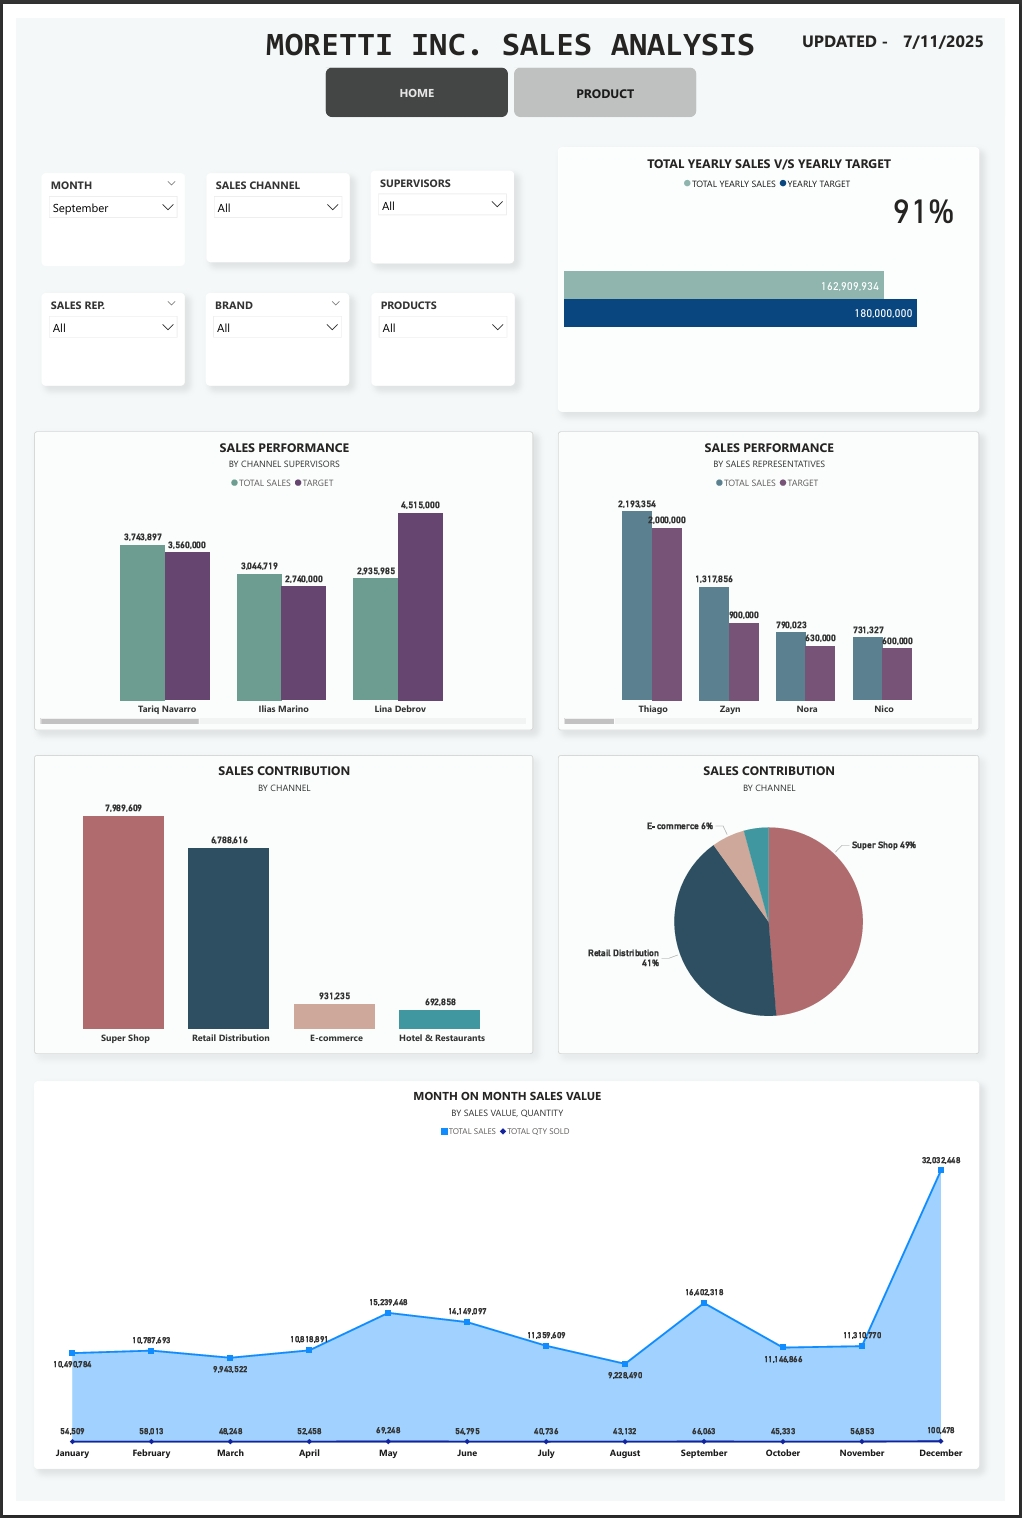

The page's visual inventory and layout, read from the dashboard file:
{"tool":"powerbi","page":{"name":"HOME","canvas":[1600,2400],"ordinal":0},"visuals":[{"type":"card","title":"UPDATED -","fields":{"Values":["Masterdata.Date_Updated"]},"box":[1400,0,200,74],"z":0,"group":"g1"},{"type":"slicer","fields":{"Values":["Masterdata.Date.Variation.Date Hierarchy.Month"]},"box":[40,250,232,150],"z":0},{"type":"textbox","box":[1266,0,172,74],"z":1000,"group":"g1"},{"type":"slicer","fields":{"Values":["Customer.New"]},"box":[306.7,250,232,144],"z":1000},{"type":"pageNavigator","title":"NAVIGATION BAR","box":[495,74,610,90],"z":2000},{"type":"slicer","fields":{"Values":["Sales Person.New"]},"box":[40,444,232,150],"z":3000},{"type":"clusteredColumnChart","title":"SALES PERFORMANCE","fields":{"Y":["Sum(Masterdata.Total Amount)","Sum(Masterdata.SP_Target)"],"Category":["Supervisor.New"]},"box":[28,668,808,484],"z":4000},{"type":"clusteredColumnChart","title":"SALES CONTRIBUTION","fields":{"Category":["Masterdata.Sales Channel"],"Y":["Sum(Masterdata.Total Amount)"]},"box":[28,1192,808,484],"z":5000},{"type":"textbox","box":[0,0,1600,104],"z":6000},{"type":"clusteredBarChart","title":"TOTAL YEARLY SALES V/S YEARLY TARGET","fields":{"Y":["Sum(Masterdata.Total Amount)","Sum(Masterdata.Yearly Target)"]},"box":[876,208,682,428],"z":7000,"group":"g2"},{"type":"slicer","fields":{"Values":["Supervisor.New"]},"box":[573.3,246,232,150],"z":7000},{"type":"card","fields":{"Values":["Masterdata.YTD %"]},"box":[1378,250,180,108],"z":8000,"group":"g2"},{"type":"slicer","fields":{"Values":["Brand.New Brand"]},"box":[306,444,232,150],"z":8000},{"type":"slicer","fields":{"Values":["Product.New Product"]},"box":[574,444,232,150],"z":9000},{"type":"group","id":"g1","title":"Group 2","box":[1266,0,334,74],"z":10000},{"type":"group","id":"g2","title":"Group 1","box":[876,208,682,428],"z":11000},{"type":"clusteredColumnChart","title":"SALES PERFORMANCE","fields":{"Y":["Sum(Masterdata.Total Amount)","Sum(Masterdata.Merchandiser_target)"],"Category":["Sales Person.New"]},"box":[876,668,682,484],"z":12000},{"type":"pieChart","title":"SALES CONTRIBUTION","fields":{"Category":["Masterdata.Sales Channel"],"Y":["Sum(Masterdata.Total Amount)"]},"box":[876,1192,682,484],"z":13000},{"type":"areaChart","title":"MONTH ON MONTH SALES VALUE","fields":{"Y":["Sum(Masterdata.Total Amount)","Sum(Masterdata.Qty)"],"Category":["Masterdata.Date.Variation.Date Hierarchy.Month"]},"box":[28,1720,1530,628],"z":14000}]}

Visuals, with their boxes in screenshot pixels (x1, y1, x2, y2), scaled from the page's 1600x2400 canvas onto the 1022x1518 screenshot:
"UPDATED -" card: (894,0,1021,47)
slicer - Masterdata.Date.Variation.Date Hierarchy.Month: (26,158,174,253)
textbox: (809,0,919,47)
slicer - Customer.New: (196,158,344,249)
"NAVIGATION BAR" pageNavigator: (316,47,706,104)
slicer - Sales Person.New: (26,281,174,376)
"SALES PERFORMANCE" clusteredColumnChart: (18,423,534,729)
"SALES CONTRIBUTION" clusteredColumnChart: (18,754,534,1060)
textbox: (0,0,1021,66)
"TOTAL YEARLY SALES V/S YEARLY TARGET" clusteredBarChart: (560,132,995,402)
slicer - Supervisor.New: (366,156,514,250)
card - Masterdata.YTD %: (880,158,995,226)
slicer - Brand.New Brand: (195,281,344,376)
slicer - Product.New Product: (367,281,515,376)
"Group 2" group: (809,0,1021,47)
"Group 1" group: (560,132,995,402)
"SALES PERFORMANCE" clusteredColumnChart: (560,423,995,729)
"SALES CONTRIBUTION" pieChart: (560,754,995,1060)
"MONTH ON MONTH SALES VALUE" areaChart: (18,1088,995,1485)
